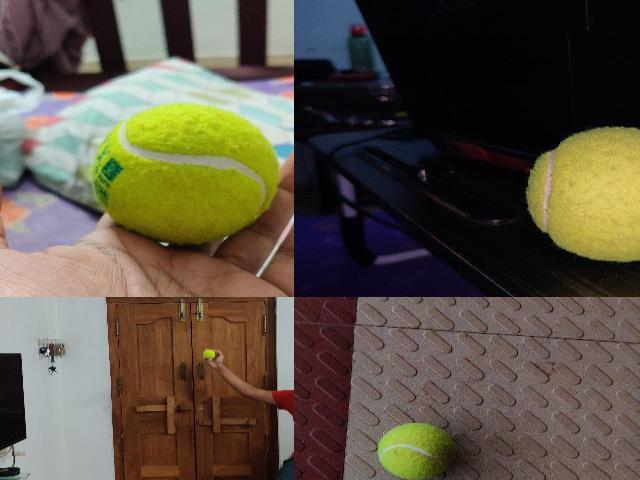tennis-ball: (90, 103, 280, 245), (524, 128, 639, 262), (378, 422, 454, 480), (202, 349, 215, 359)
